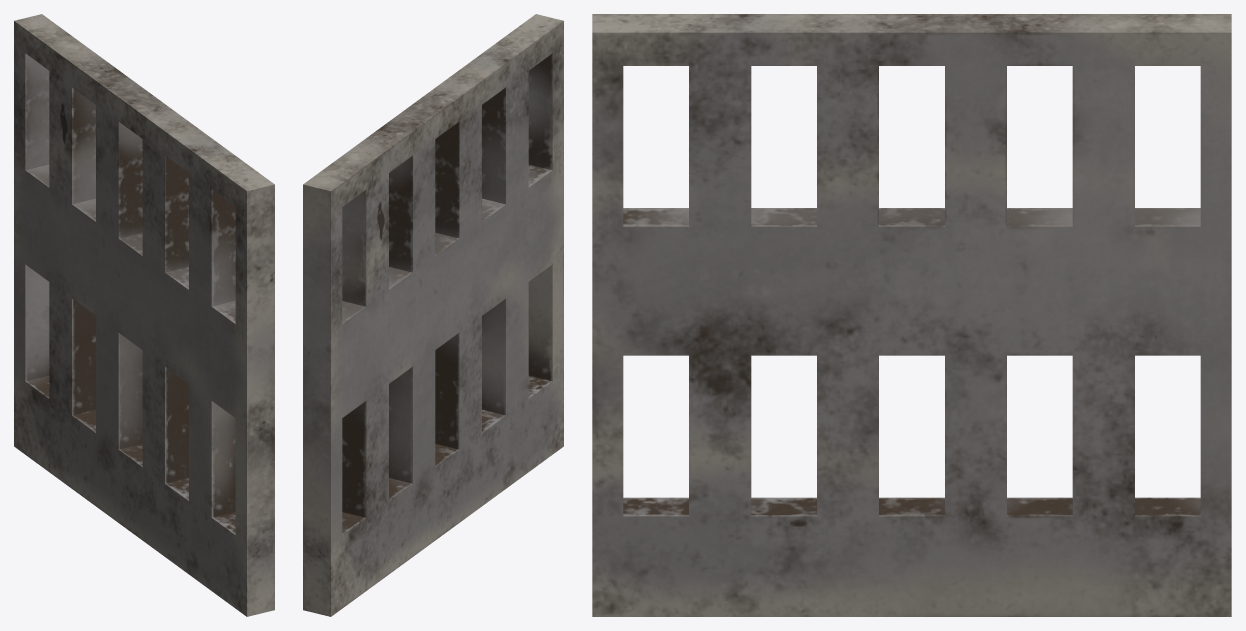
Rendered from BLD_Wall L.fbx.
The picture shows the model from 3 angles, left to right: view 1: azimuth 30°, elevation 25°; view 2: azimuth 150°, elevation 25°; view 3: azimuth 270°, elevation 25°; orthographic projection. The views are drawn at different scales.
Parts seen in each view (by area): view 1: Wall window; view 2: Wall window; view 3: Wall window.
Boxes of the visible parts, x1=… form: Wall window: x1=14, y1=14, x2=274, y2=616; Wall window: x1=303, y1=14, x2=563, y2=616; Wall window: x1=592, y1=14, x2=1231, y2=616.
Bounding box in the file's own units: 49.79 × 725 × 719.
Materials: 1 (1 with a texture image).
